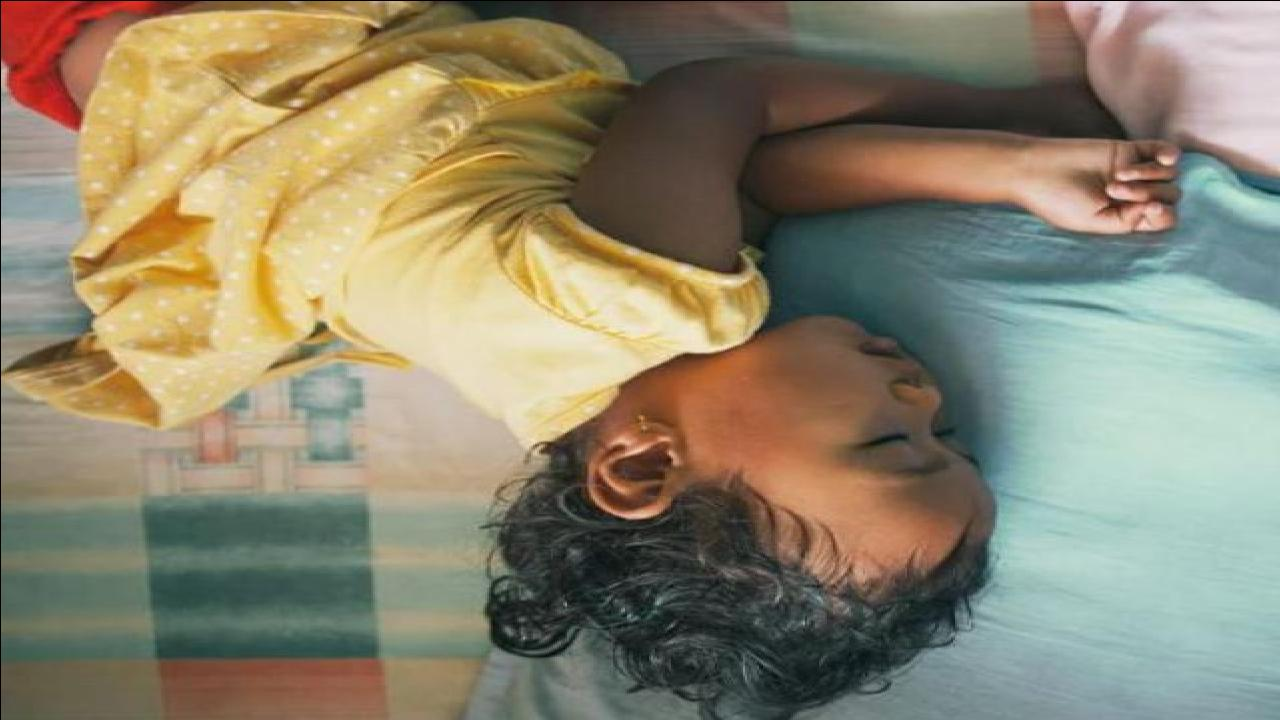hand: (1007, 132, 1186, 233)
